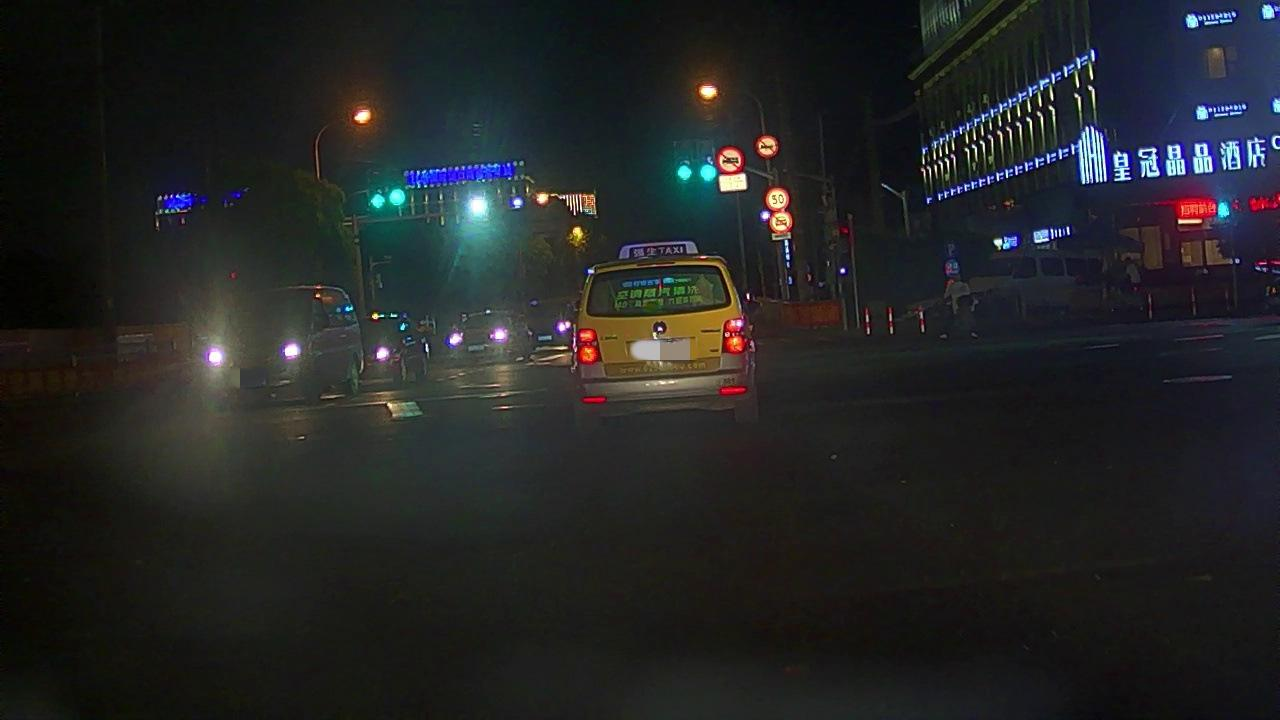traffic_light: (698, 141, 718, 183), (673, 141, 693, 182), (388, 169, 407, 209), (369, 170, 386, 211)
